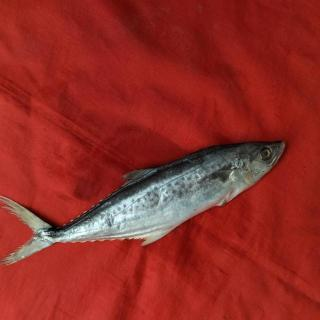Ikan: (6, 121, 297, 272)
